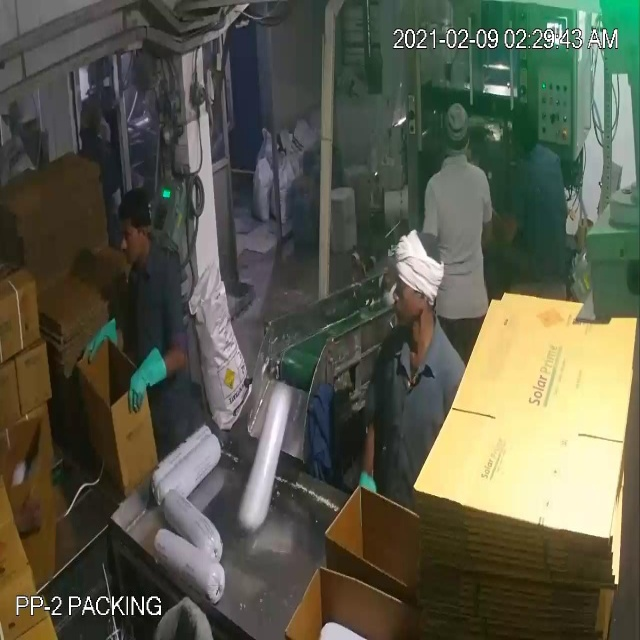Guantes: (74, 305, 130, 371), (126, 340, 172, 411)
Sin_guantes: (477, 191, 524, 253)
